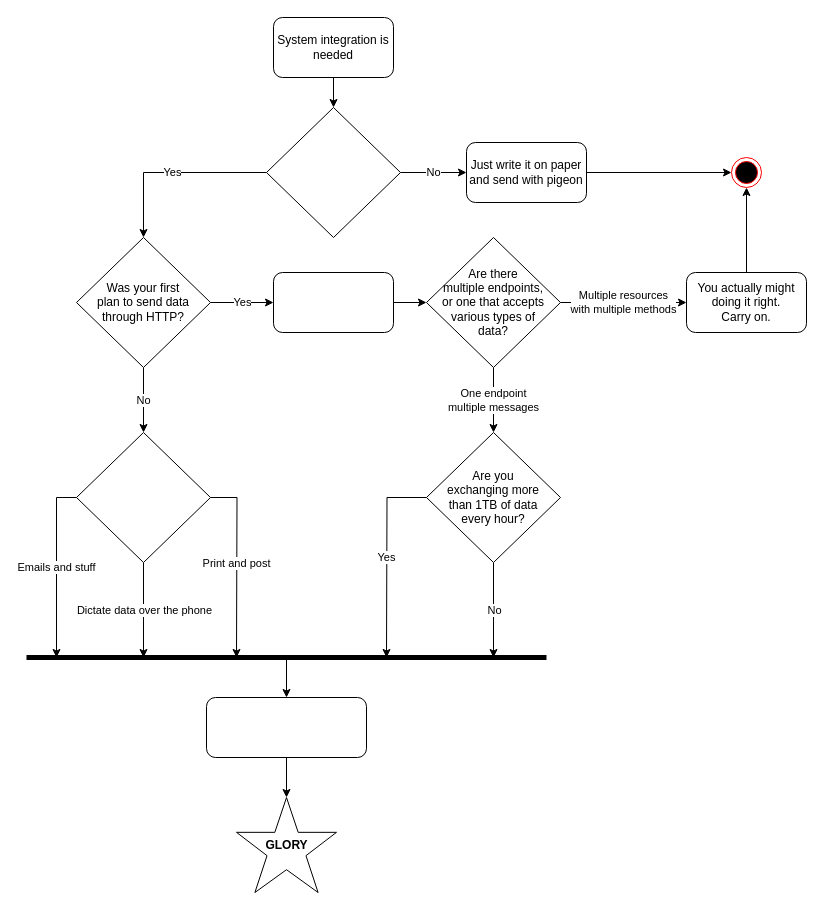
Image size: 824x910. Some labels were removed from this diagram. Each missing label, with the box of its shape:
Do you have to send more than 3 values?: (266, 106, 400, 238)
How you wanted to send data?: (76, 432, 210, 562)
Seriously? What year is it? 2018?: (272, 272, 394, 332)
You should use Schema Driven Integration: (206, 696, 366, 758)
